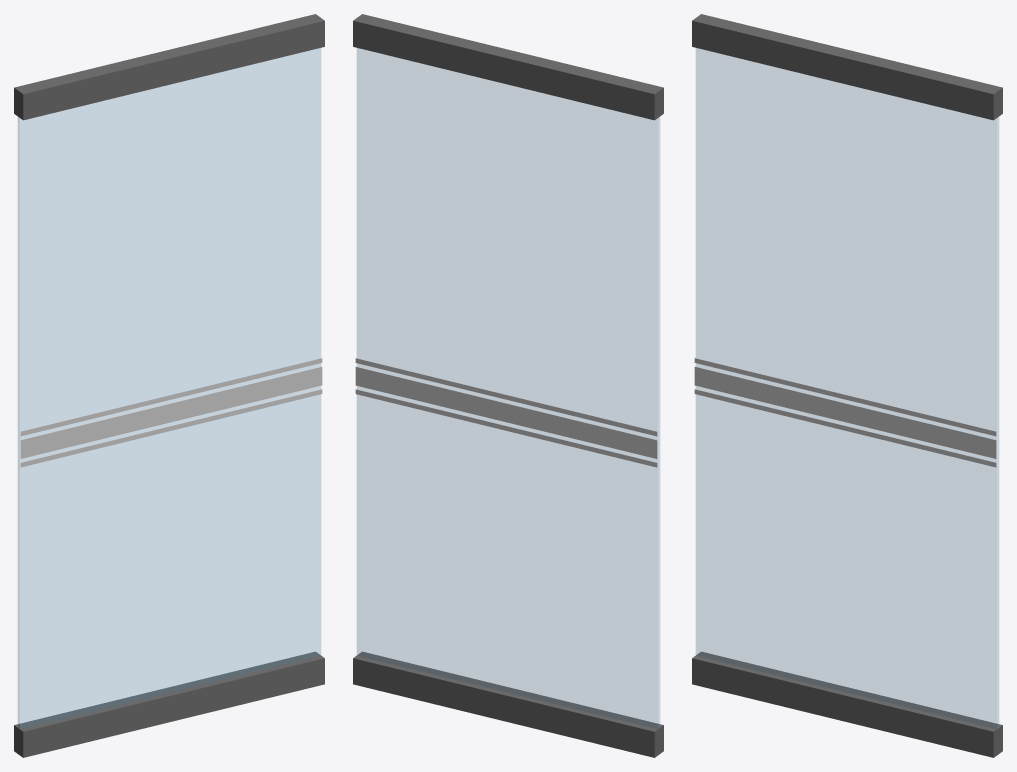
3 views of the same model, side by side, from view 1: azimuth 30°, elevation 25°; view 2: azimuth 150°, elevation 25°; view 3: azimuth 330°, elevation 25° (orthographic).
Visible parts, largest first — view 1: Lo-Body玻璃_01, Lo-3米玻璃墙_01; view 2: Lo-Body玻璃_01, Lo-3米玻璃墙_01; view 3: Lo-Body玻璃_01, Lo-3米玻璃墙_01.
Part boxes in pixels (x1,y1,x2,y2): Lo-Body玻璃_01: (18,48,320,728); Lo-3米玻璃墙_01: (14,14,324,757); Lo-Body玻璃_01: (357,48,659,728); Lo-3米玻璃墙_01: (353,14,663,757); Lo-Body玻璃_01: (696,48,998,728); Lo-3米玻璃墙_01: (692,14,1002,757).
Bounding box in the file's own units: 1.5 × 3.15 × 0.0789.
Materials: 2 (2 with a texture image).
